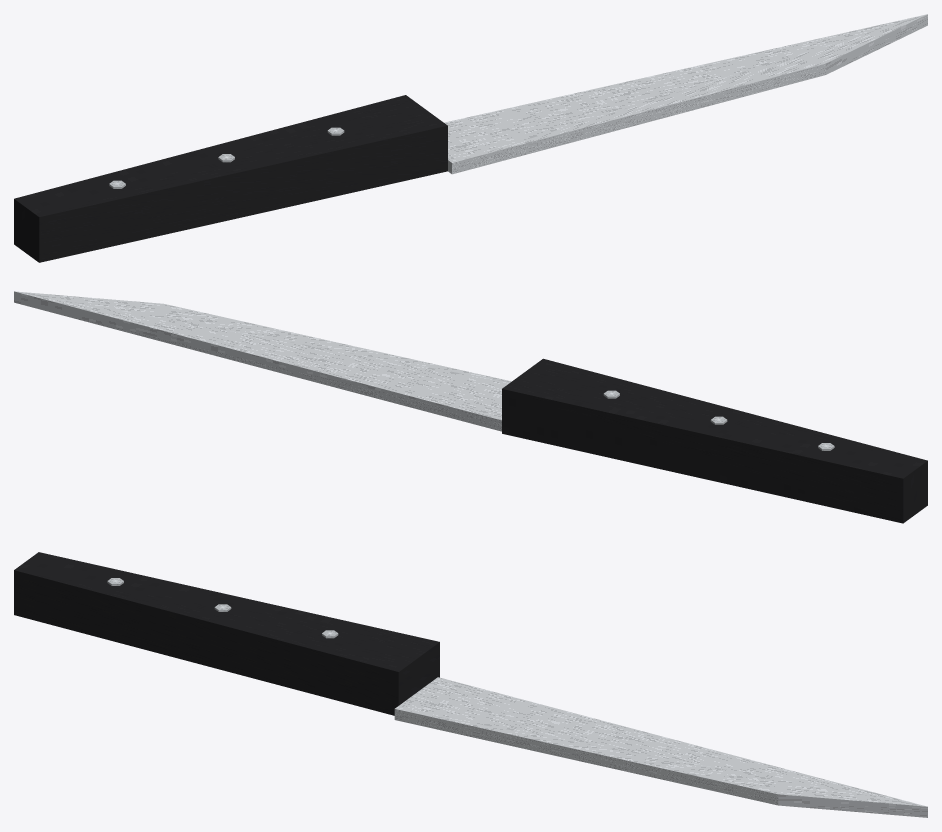
File: knife_small.glb
The picture shows the model from 3 angles, top to bottom: view 1: azimuth 30°, elevation 25°; view 2: azimuth 150°, elevation 25°; view 3: azimuth 330°, elevation 25°; orthographic projection.
Parts seen in each view (by area): view 1: block_handle, block_blade; view 2: block_handle, block_blade; view 3: block_handle, block_blade.
Part boxes in pixels (x1,y1,x2,y2): block_handle: [14, 95, 447, 262]; block_blade: [444, 14, 927, 174]; block_handle: [502, 358, 927, 523]; block_blade: [14, 291, 511, 431]; block_handle: [14, 552, 439, 715]; block_blade: [394, 677, 927, 817].
Bounding box in the file's own units: 0.25 × 0.0125 × 0.022.
2 materials, 2 textured.
